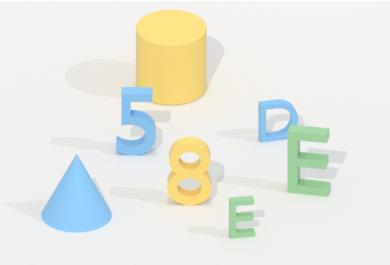0-KhoiTru: (130, 6, 214, 109)
0-TamGiac: (37, 150, 117, 237)
5: (114, 82, 158, 158)
8: (163, 134, 215, 210)
D: (253, 94, 300, 144)
E: (286, 120, 334, 202), (224, 190, 259, 243)
